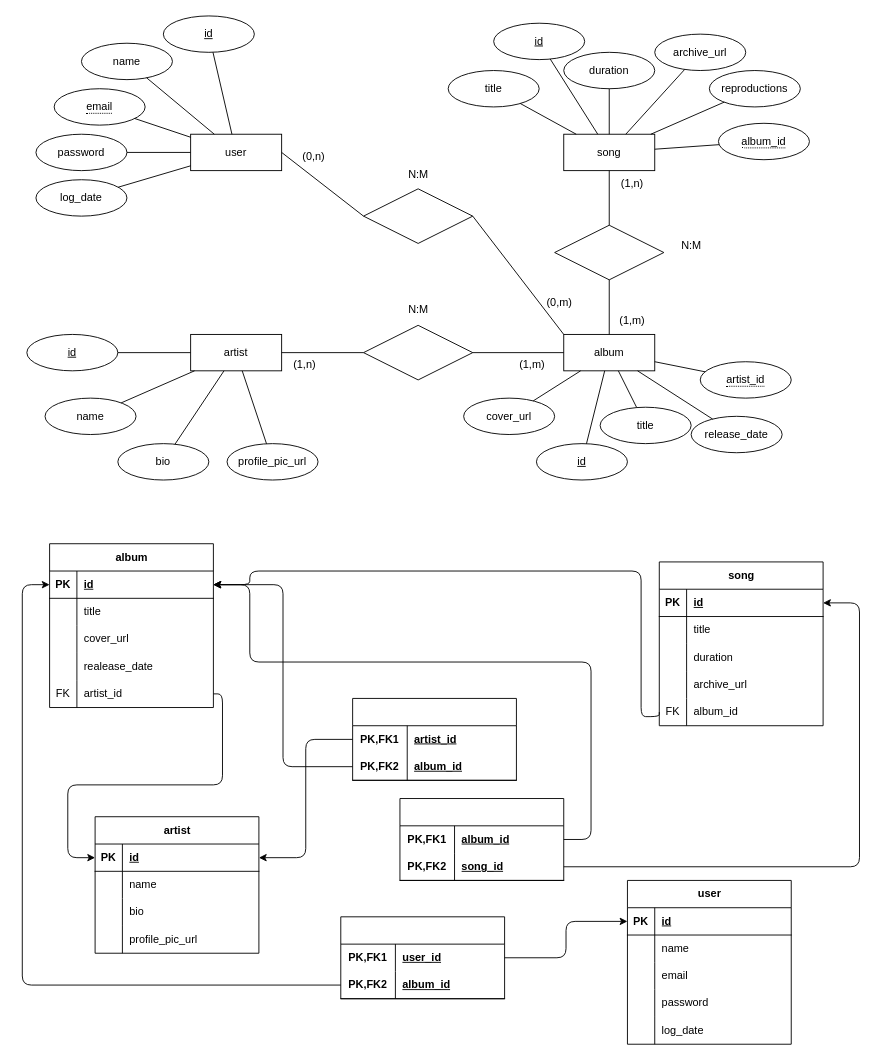
Image size: 883x1060. Some labels were removed from this diagram. Here are the shapes that lost their labels. From the top down, the box of each, then its label:
(363, 188, 473, 243): buy
(554, 224, 664, 280): contain
(363, 324, 473, 380): belong
(352, 698, 516, 780): artist_belong_album
(399, 798, 564, 880): album_contain_song
(340, 916, 505, 999): user_buy_album
